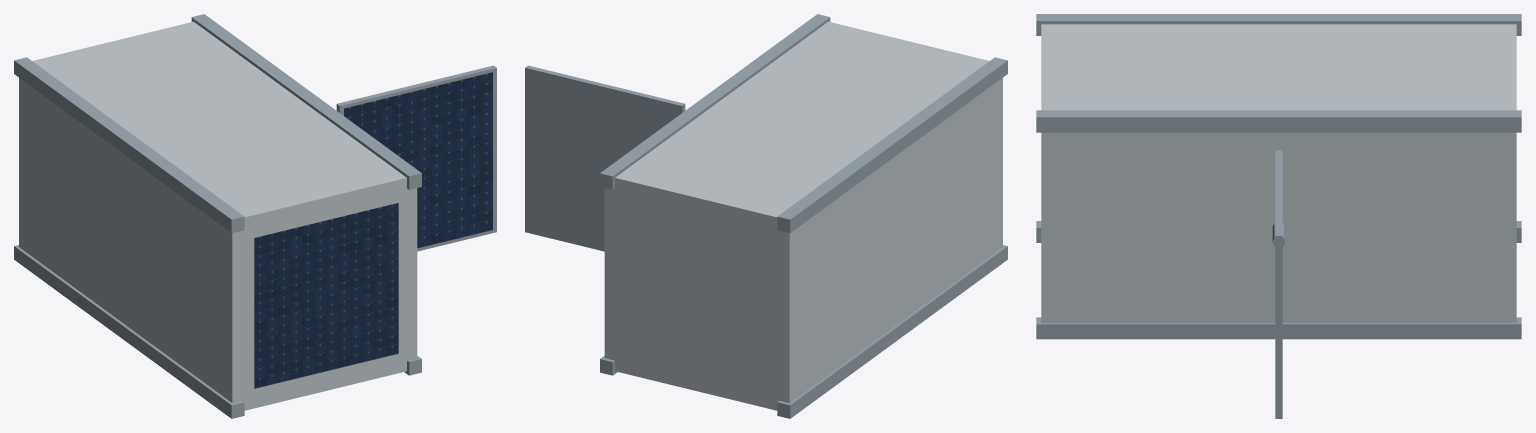
File: ref-cubesat-12u-68408.glb
The picture shows the model from 3 angles, left to right: view 1: azimuth 30°, elevation 25°; view 2: azimuth 150°, elevation 25°; view 3: azimuth 270°, elevation 25°; orthographic projection. The views are drawn at different scales.
Visible parts, largest first — view 1: Spacecraft body, Body-mounted cells, Photovoltaic laminates, Dispenser rail (×3), Array frame; view 2: Spacecraft body, Array frame, Dispenser rail (×3); view 3: Spacecraft body, Dispenser rail (×3), Array frame.
Boxes of the visible parts, x1,y1,x2,y2 form: Spacecraft body: (19,21,417,410); Body-mounted cells: (254,203,398,388); Photovoltaic laminates: (344,72,492,248); Dispenser rail (×3): (14,14,421,418); Array frame: (336,65,496,251); Spacecraft body: (604,21,1002,410); Array frame: (525,65,685,251); Dispenser rail (×3): (600,14,1007,418); Spacecraft body: (1041,24,1516,322); Dispenser rail (×3): (1036,14,1521,339); Array frame: (1275,150,1282,418).
Size of the model in its own units: 0.403 by 0.206 by 0.408.
Materials: 3 (1 with a texture image).
